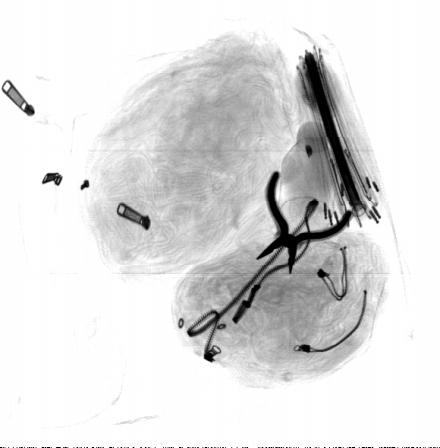Pliers: (253, 167, 355, 278)
